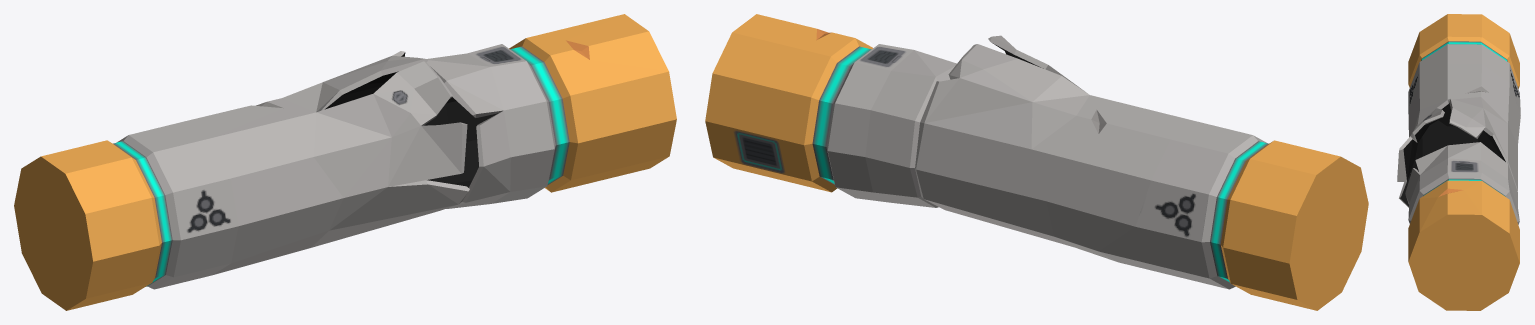
The model's file is SM_Bld_Pipe_Large_Circular_04.fbx.
3 renders of one model, left to right at view 1: azimuth 30°, elevation 25°; view 2: azimuth 150°, elevation 25°; view 3: azimuth 270°, elevation 25°, orthographic. The views are drawn at different scales.
Visible parts, largest first — view 1: SM_Bld_Pipe_Large_Circular_04; view 2: SM_Bld_Pipe_Large_Circular_04; view 3: SM_Bld_Pipe_Large_Circular_04.
Boxes of the visible parts, left/top/right/bottom form: SM_Bld_Pipe_Large_Circular_04: left=14, top=14, right=676, bottom=310; SM_Bld_Pipe_Large_Circular_04: left=705, top=14, right=1368, bottom=310; SM_Bld_Pipe_Large_Circular_04: left=1397, top=14, right=1520, bottom=310.
Bounding box in the file's own units: 500 × 137 × 130.
